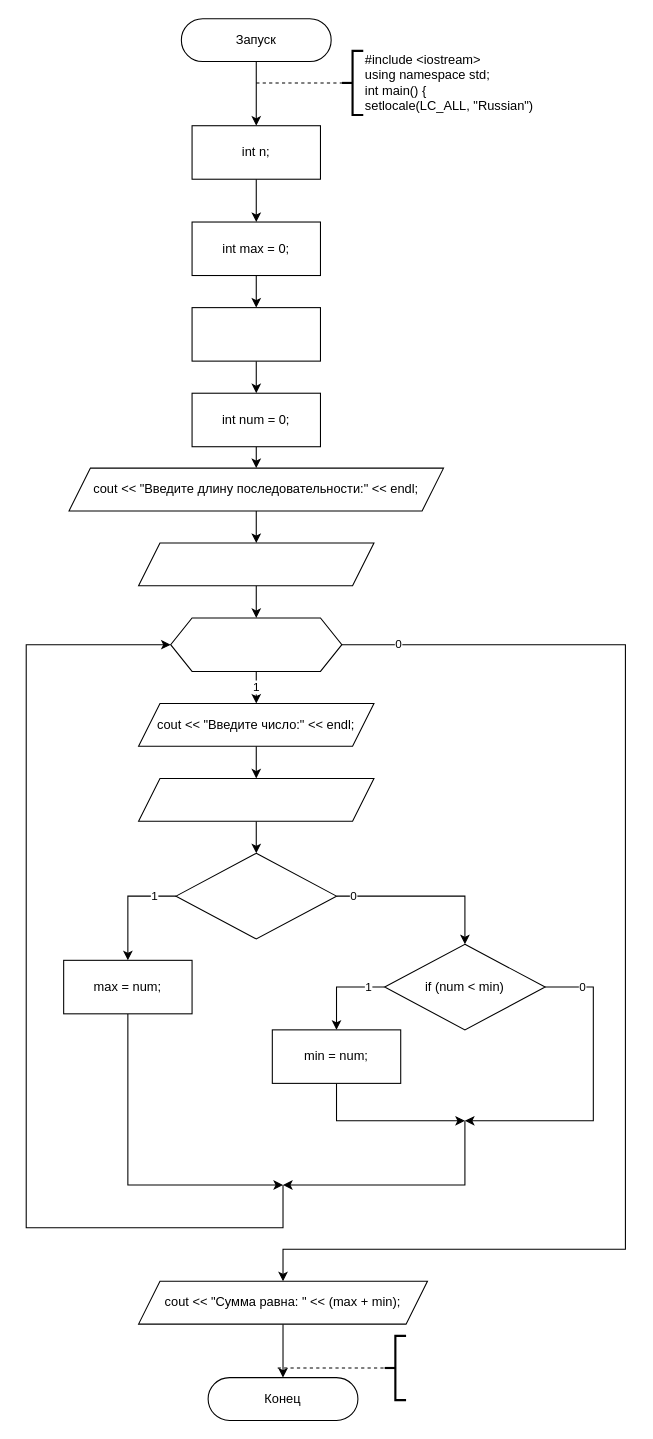
Image size: 653x1439. Some labels were removed from this diagram. Each missing label, with the centre of its shape:
"cin >> n;" goes at (255,564).
"cin >> num;" goes at (255,799).
"for (int i = 1; i <= n; i++)" goes at (256,644).
"if (num > max)" goes at (256,895).
"int min = 999999999;" goes at (255,334).
"return 0; }" goes at (395,1367).
